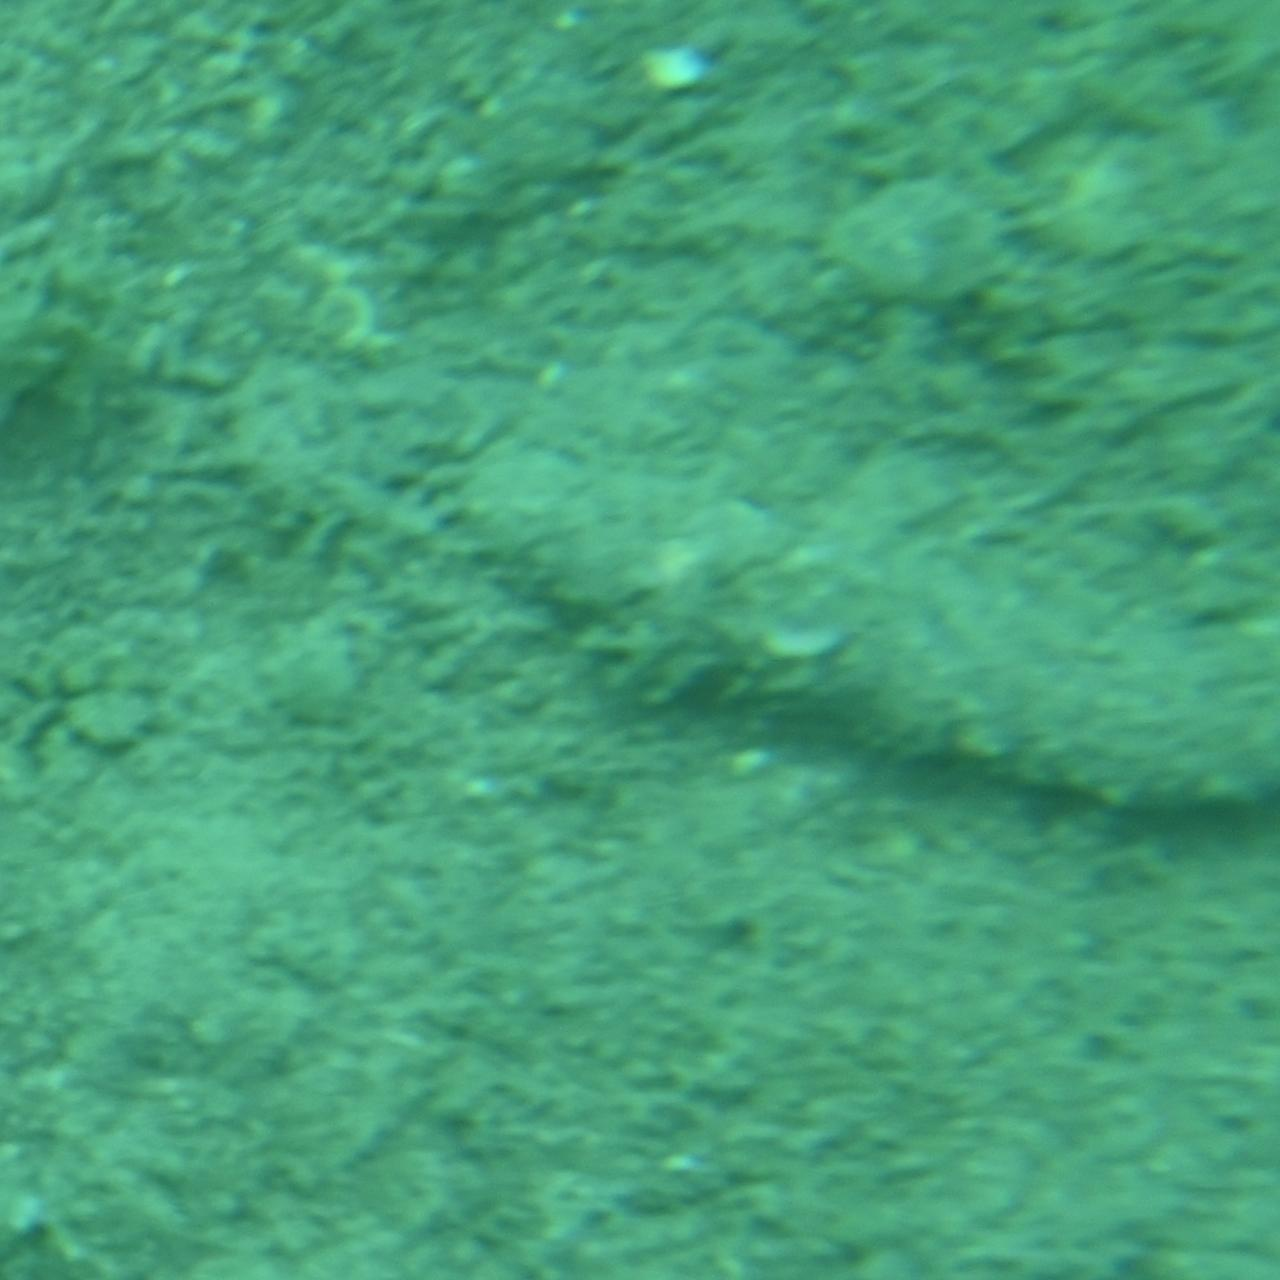Holothuria tubulosa: (459, 442, 1276, 838)
